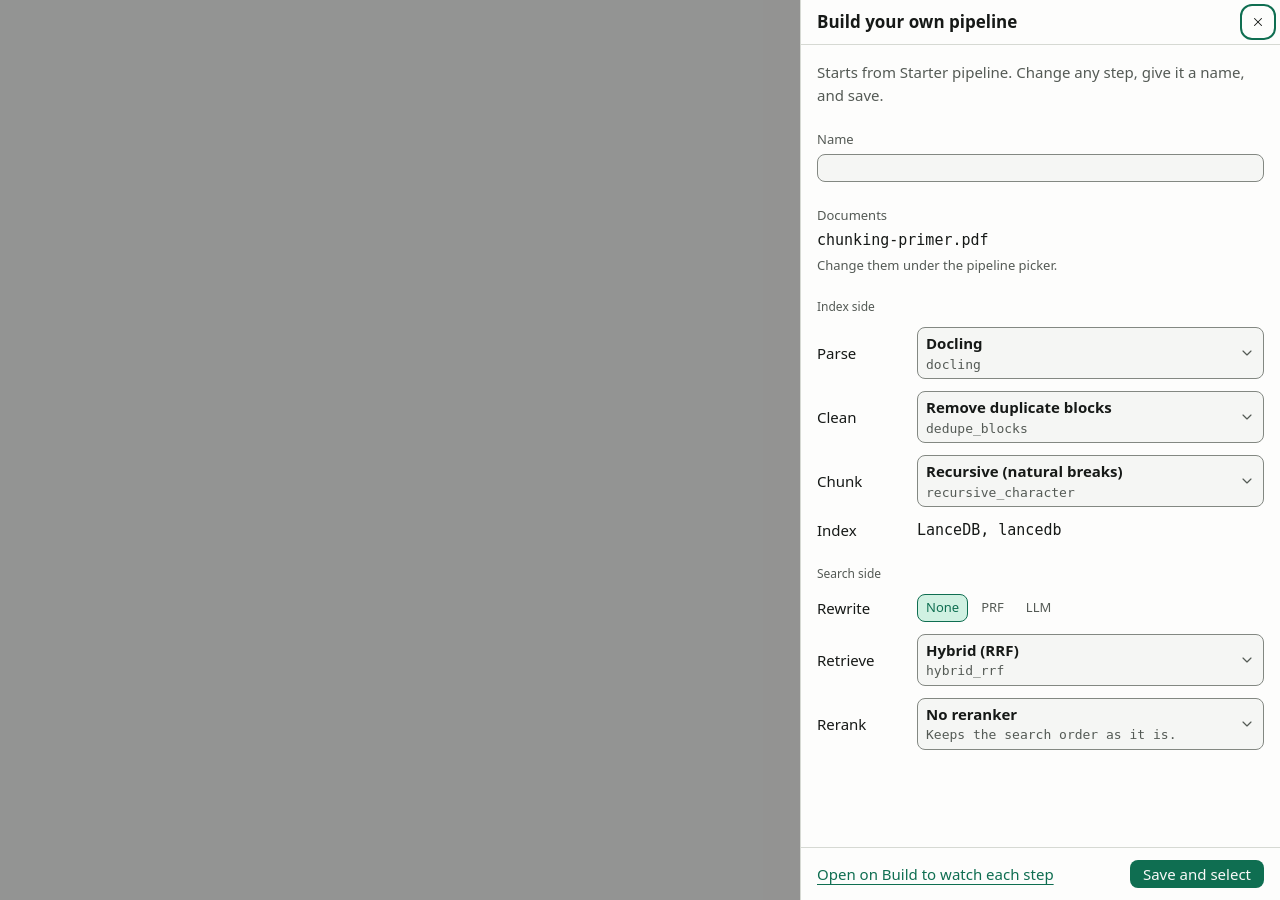
Test: Build your own › says a missing name inline, under the field, and saves nothing
Click the button "Save and select": (1197, 874) [1130, 860, 1264, 888]
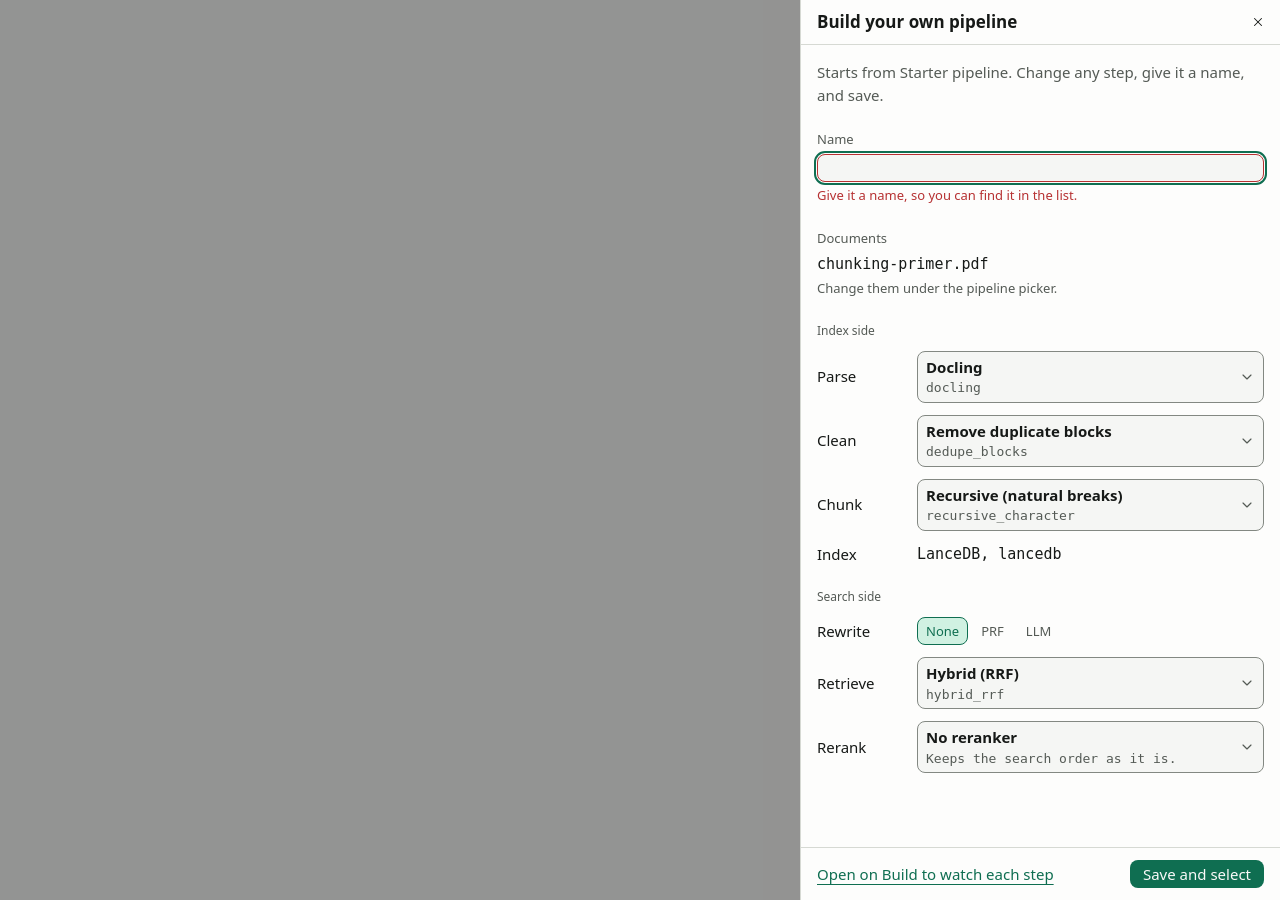
Expected: the message reads "Give it a name, so you can find it in the list.", [817, 186, 1077, 204]
